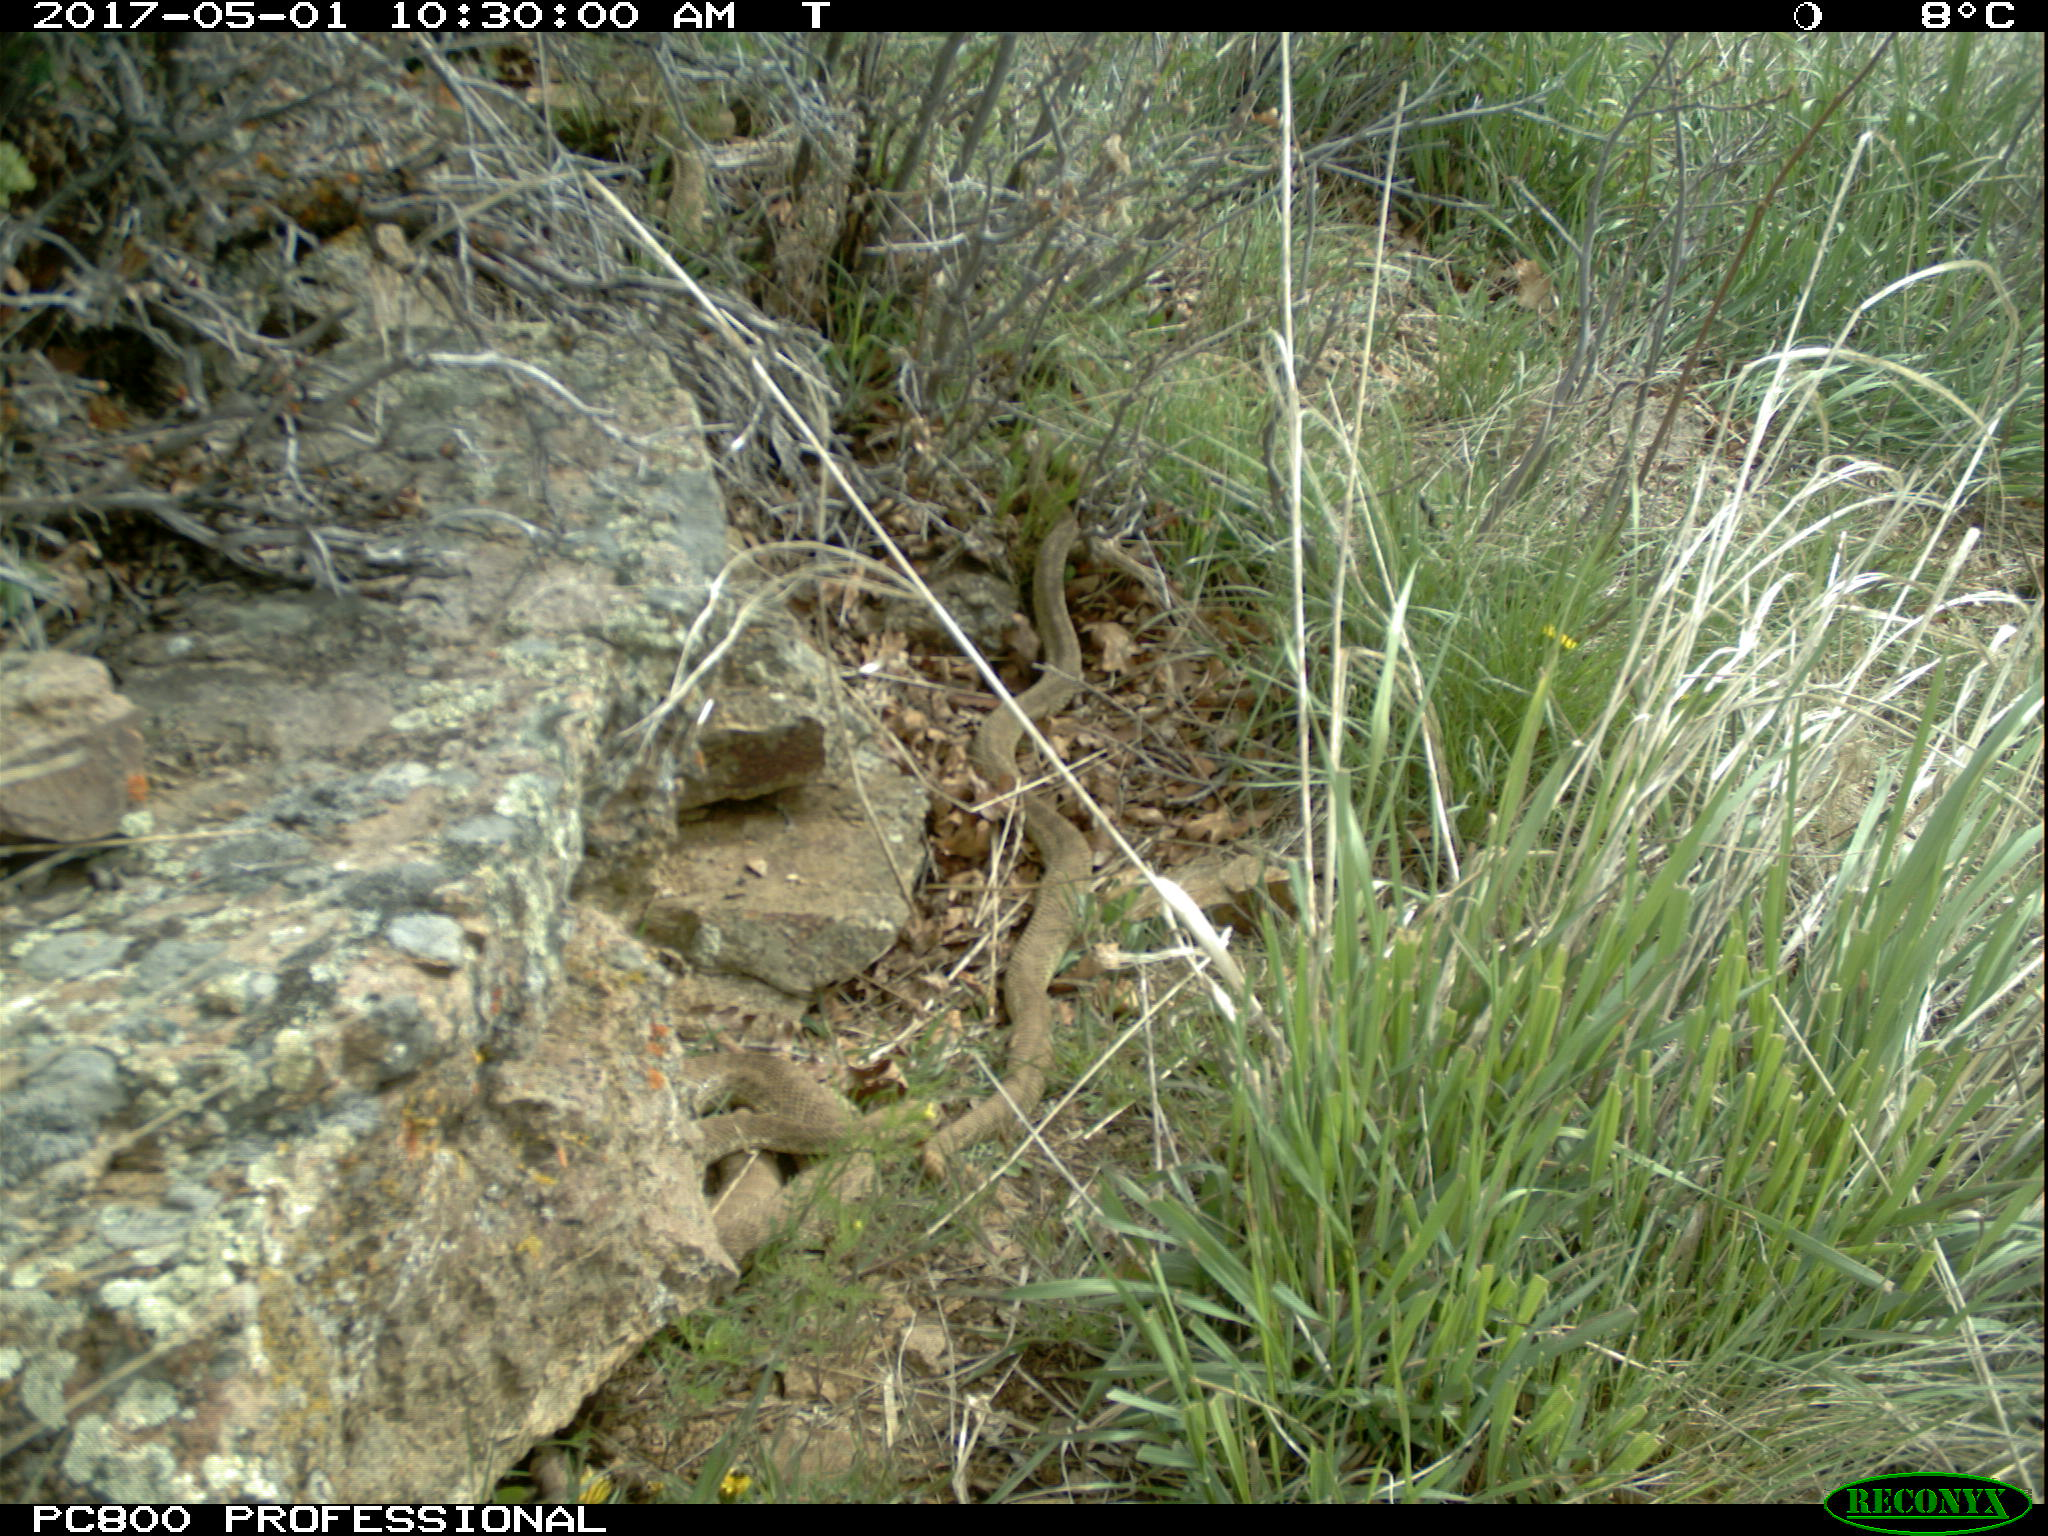snake: (934, 503, 1105, 1192), (656, 1049, 947, 1250)
